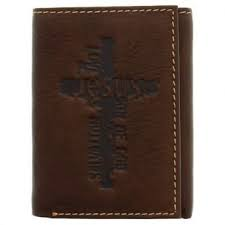monedero: (31, 5, 193, 220)
